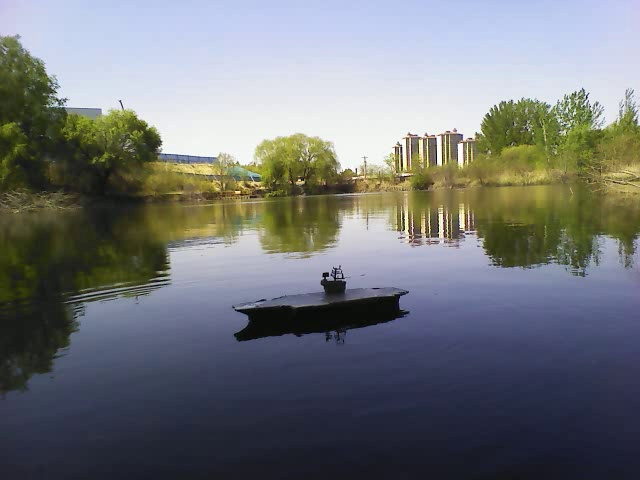aircraft_carrier: (215, 263, 415, 324)
